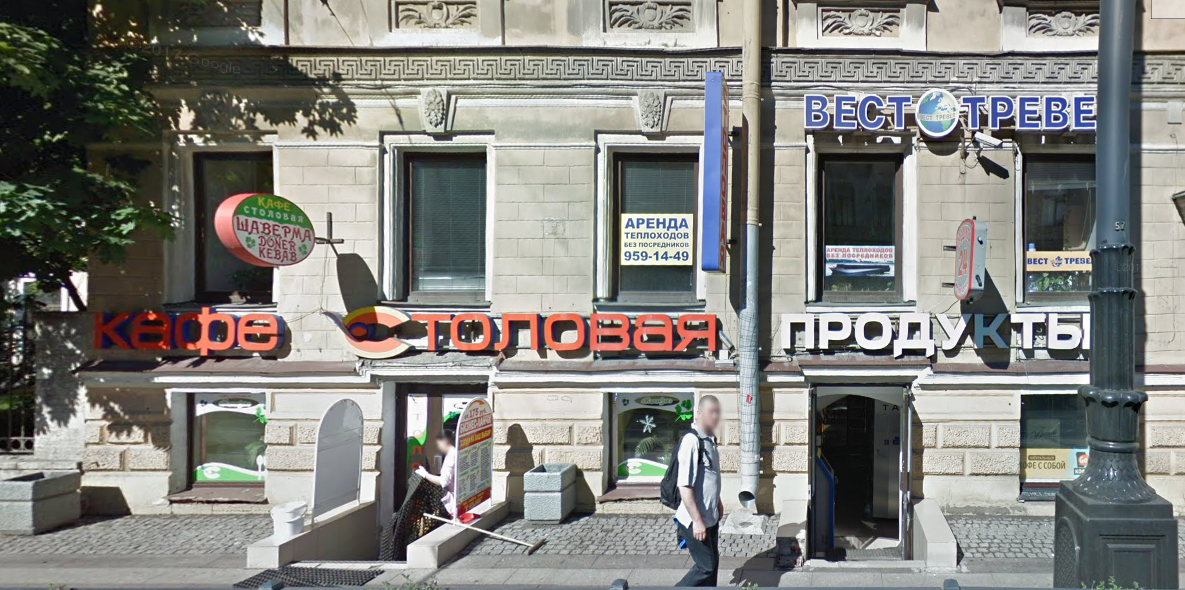cantilever: (208, 172, 352, 271), (688, 58, 744, 282), (928, 204, 992, 307)
signboard: (337, 298, 722, 372), (770, 305, 1094, 368), (798, 83, 1098, 140), (84, 296, 295, 364)
window: (815, 142, 902, 302), (605, 150, 695, 298), (188, 150, 272, 302), (402, 152, 484, 301), (1022, 150, 1096, 300), (604, 394, 695, 495), (178, 394, 264, 492), (1018, 393, 1090, 503)
